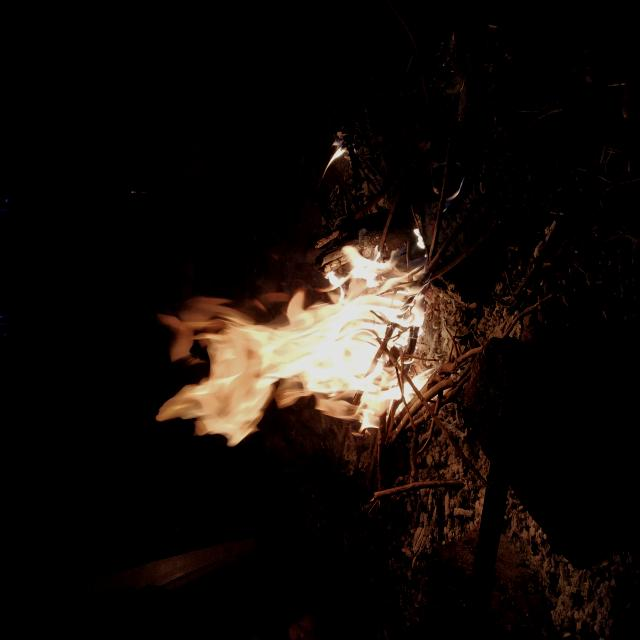firerotation: (148, 216, 430, 450), (318, 134, 348, 182)
